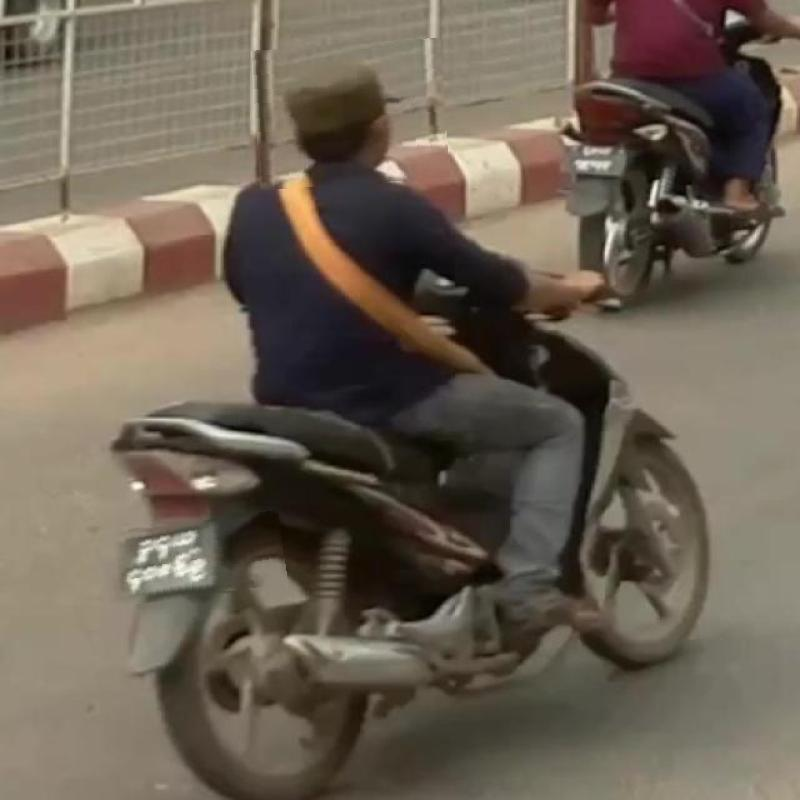nohelmet: (253, 41, 448, 187), (100, 516, 286, 602)
